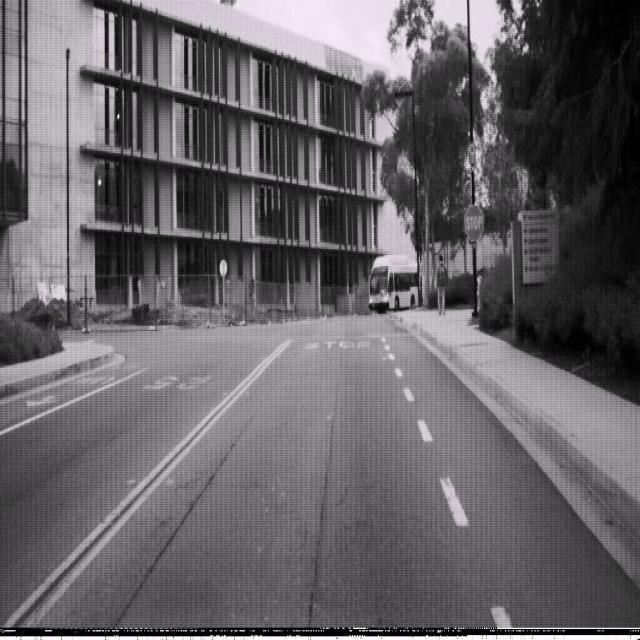stop_sign: (464, 202, 484, 243)
